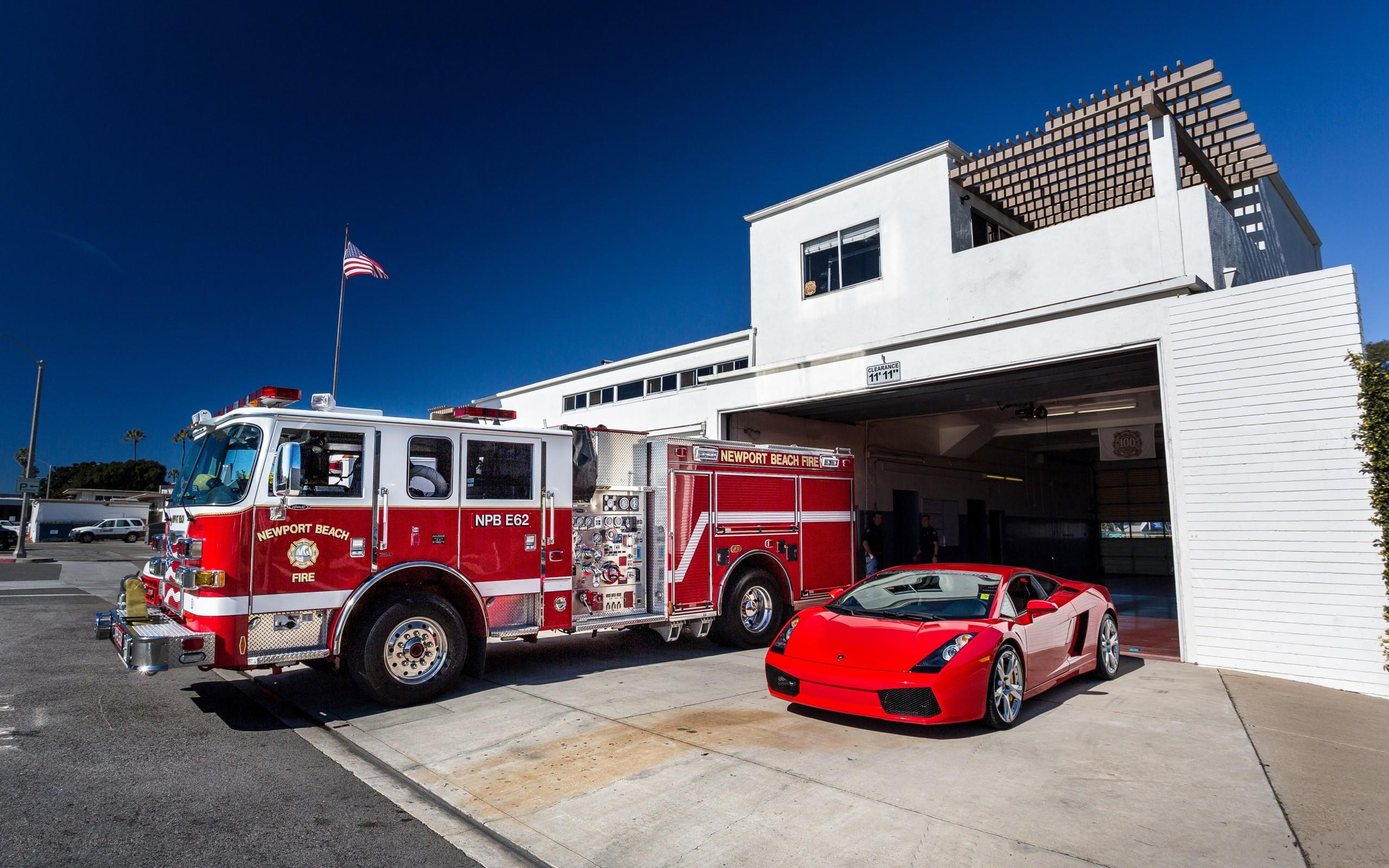Fire-engine: (94, 385, 859, 707)
